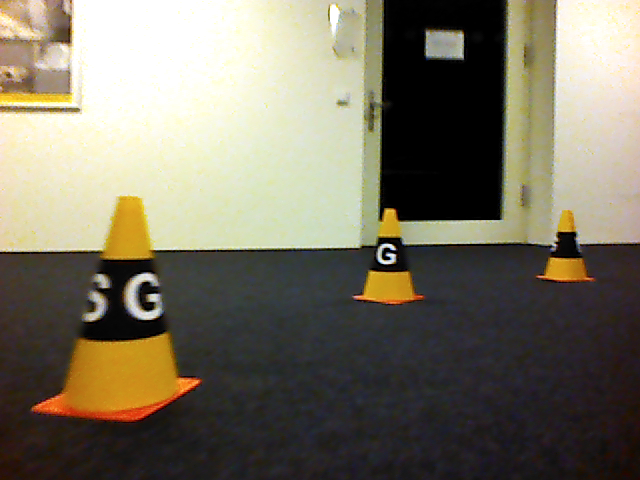yellowcone: (29, 194, 203, 425), (353, 207, 426, 306), (534, 208, 596, 285)
